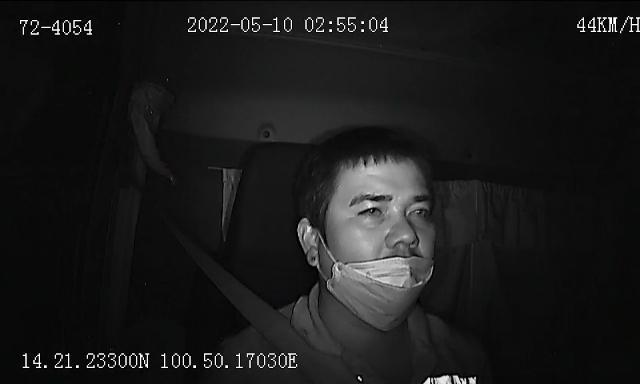SafeDriving: (351, 197, 392, 223), (404, 198, 436, 222)
Seatbelt: (185, 238, 307, 352)
